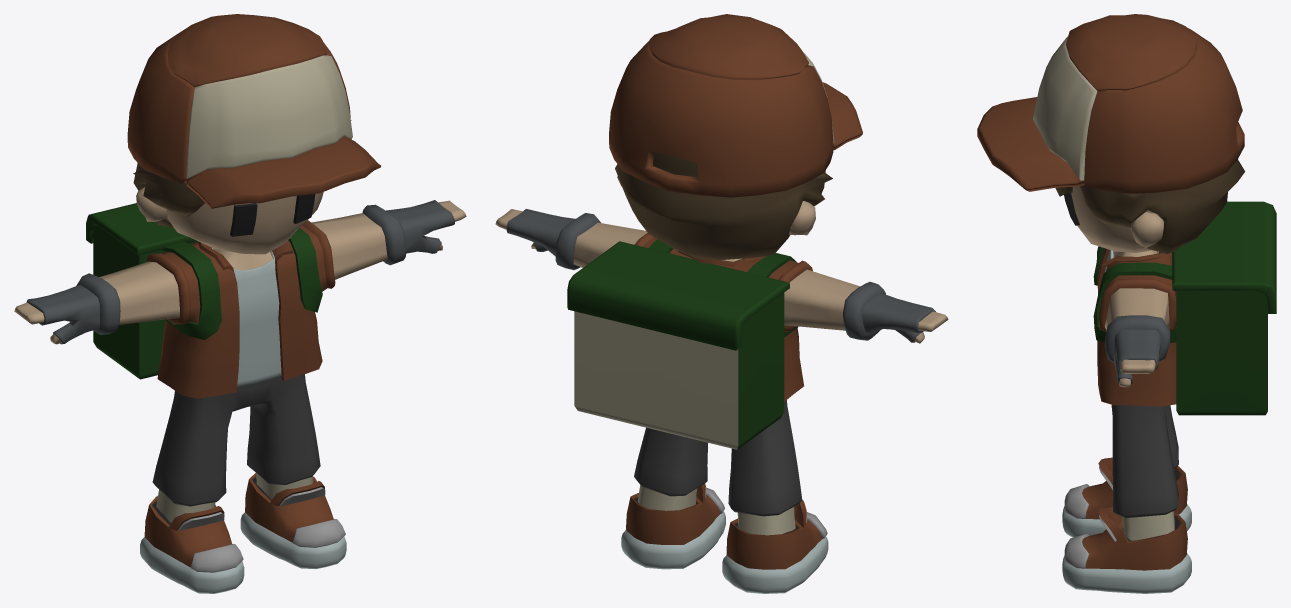
File: PS_PlayerCharacterNew.fbx
3 views of the same model, side by side, from view 1: azimuth 30°, elevation 25°; view 2: azimuth 150°, elevation 25°; view 3: azimuth 270°, elevation 25° (orthographic).
Parts seen in each view (by area): view 1: PS_PlayerCharacterNew; view 2: PS_PlayerCharacterNew; view 3: PS_PlayerCharacterNew.
Boxes of the visible parts, x1,y1,x2,y2 form: PS_PlayerCharacterNew: [14, 14, 466, 593]; PS_PlayerCharacterNew: [495, 14, 948, 593]; PS_PlayerCharacterNew: [977, 14, 1276, 593].
Bounding box in the file's own units: 1.49 × 1.72 × 0.8856.
